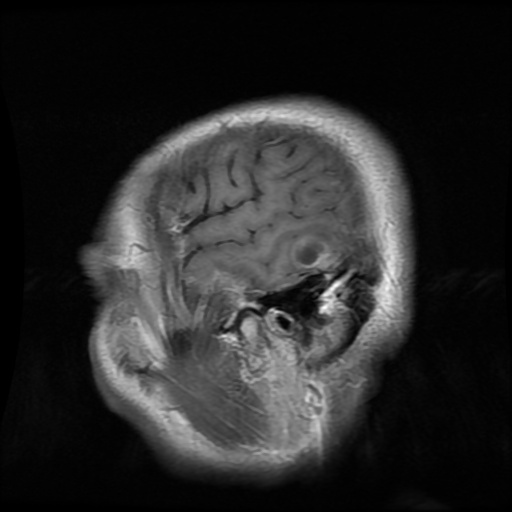glioma: (288, 230, 339, 274)
